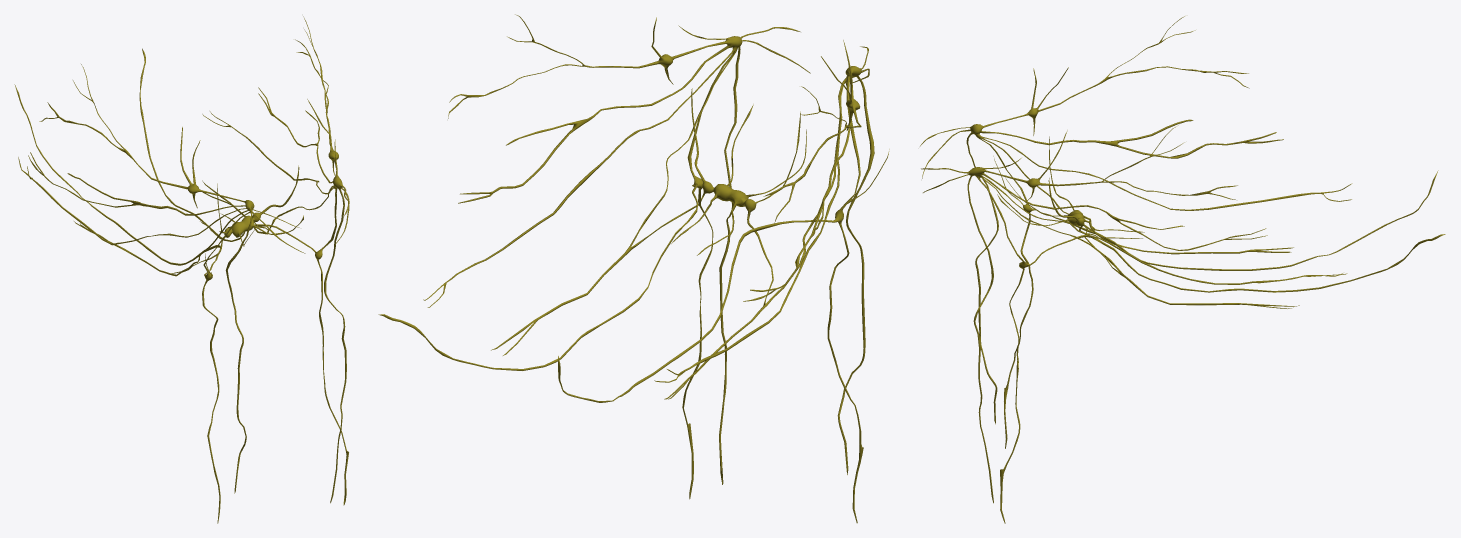
File: lymphocentrum thoracicumventrale.fbx
3 views of the same model, side by side, from view 1: azimuth 30°, elevation 25°; view 2: azimuth 150°, elevation 25°; view 3: azimuth 270°, elevation 25° (orthographic). The views are drawn at different scales.
Parts seen in each view (by area): view 1: lymphocentrum thoracicumventrale, lymphocentrum thoracicumventrale low; view 2: lymphocentrum thoracicumventrale, lymphocentrum thoracicumventrale low; view 3: lymphocentrum thoracicumventrale, lymphocentrum thoracicumventrale low.
Boxes of the visible parts, left/top/right/bottom form: lymphocentrum thoracicumventrale: left=14, top=16, right=349, bottom=523; lymphocentrum thoracicumventrale low: left=19, top=41, right=348, bottom=504; lymphocentrum thoracicumventrale: left=378, top=14, right=889, bottom=523; lymphocentrum thoracicumventrale low: left=385, top=17, right=873, bottom=508; lymphocentrum thoracicumventrale: left=920, top=16, right=1445, bottom=523; lymphocentrum thoracicumventrale low: left=922, top=33, right=1438, bottom=509.
Size of the model in its own units: 37.32 by 58.31 by 65.75.
